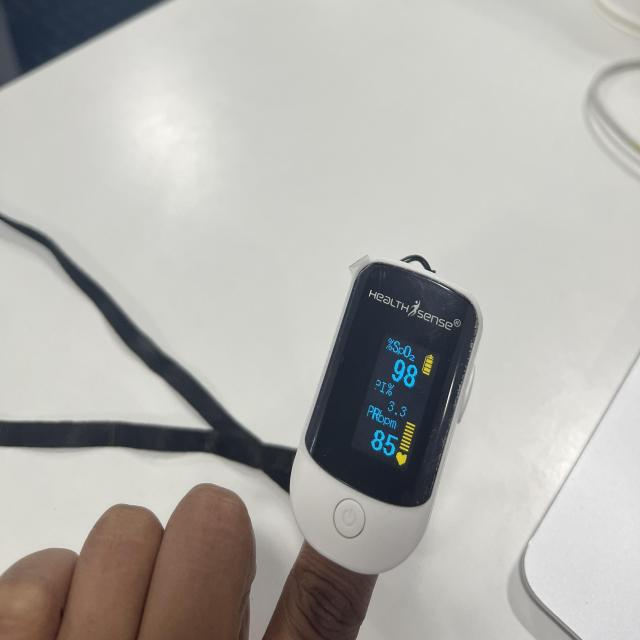spo2: (287, 257, 481, 581)
